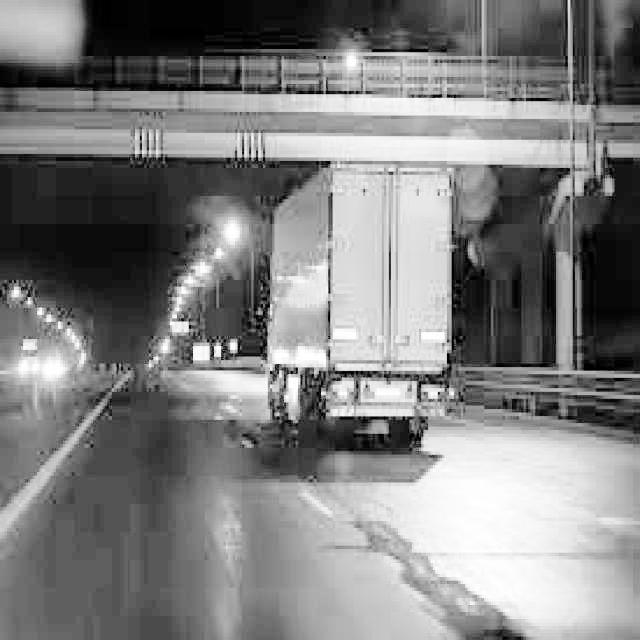Truck: (263, 161, 456, 448)
